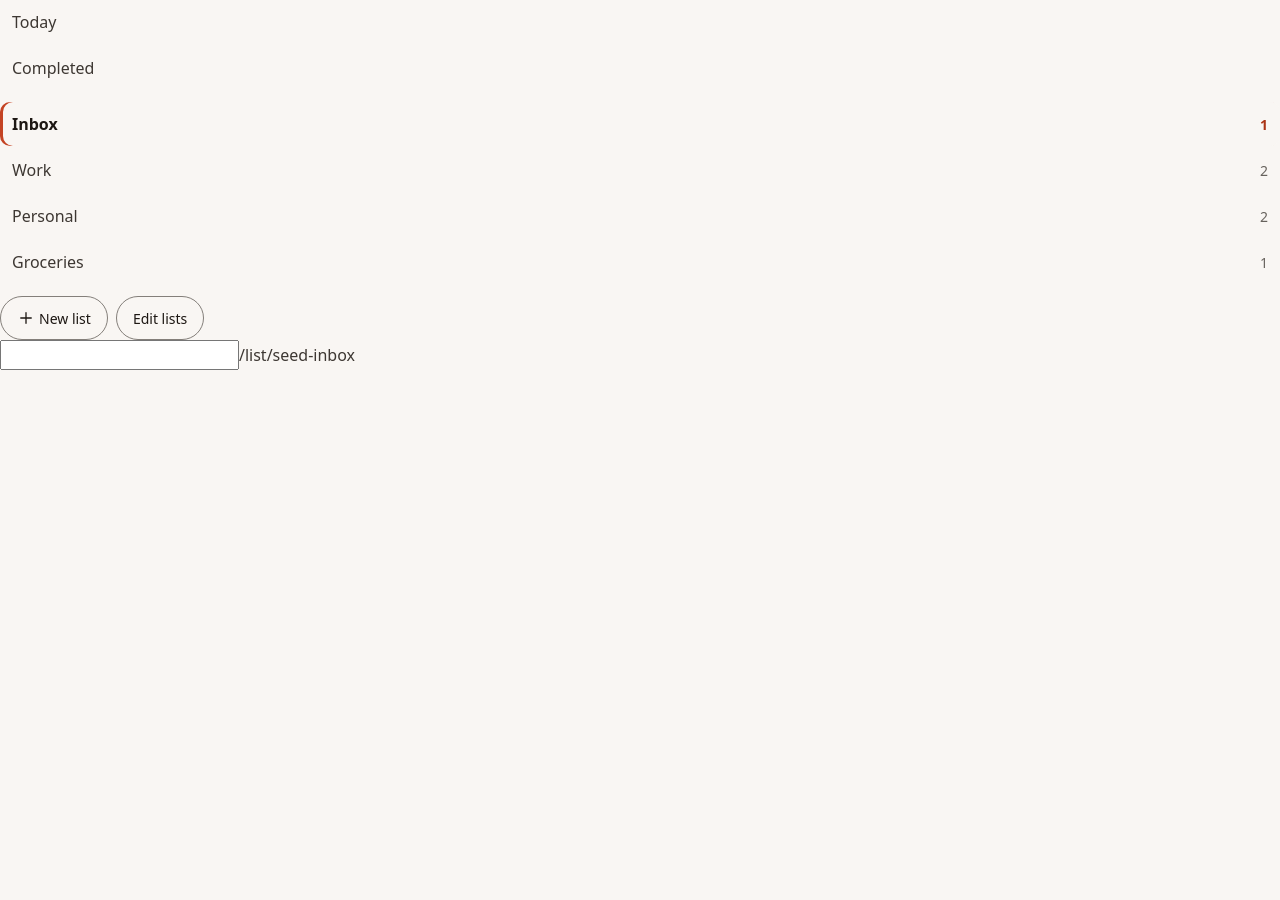
Test: ListNav › deleting › keeps the list when the prompt is cancelled
Check: the link "Work 2" is shown, box [12,159,1268,181]
Click the button "Edit lists".
click(160, 318)  # box [116,296,204,340]
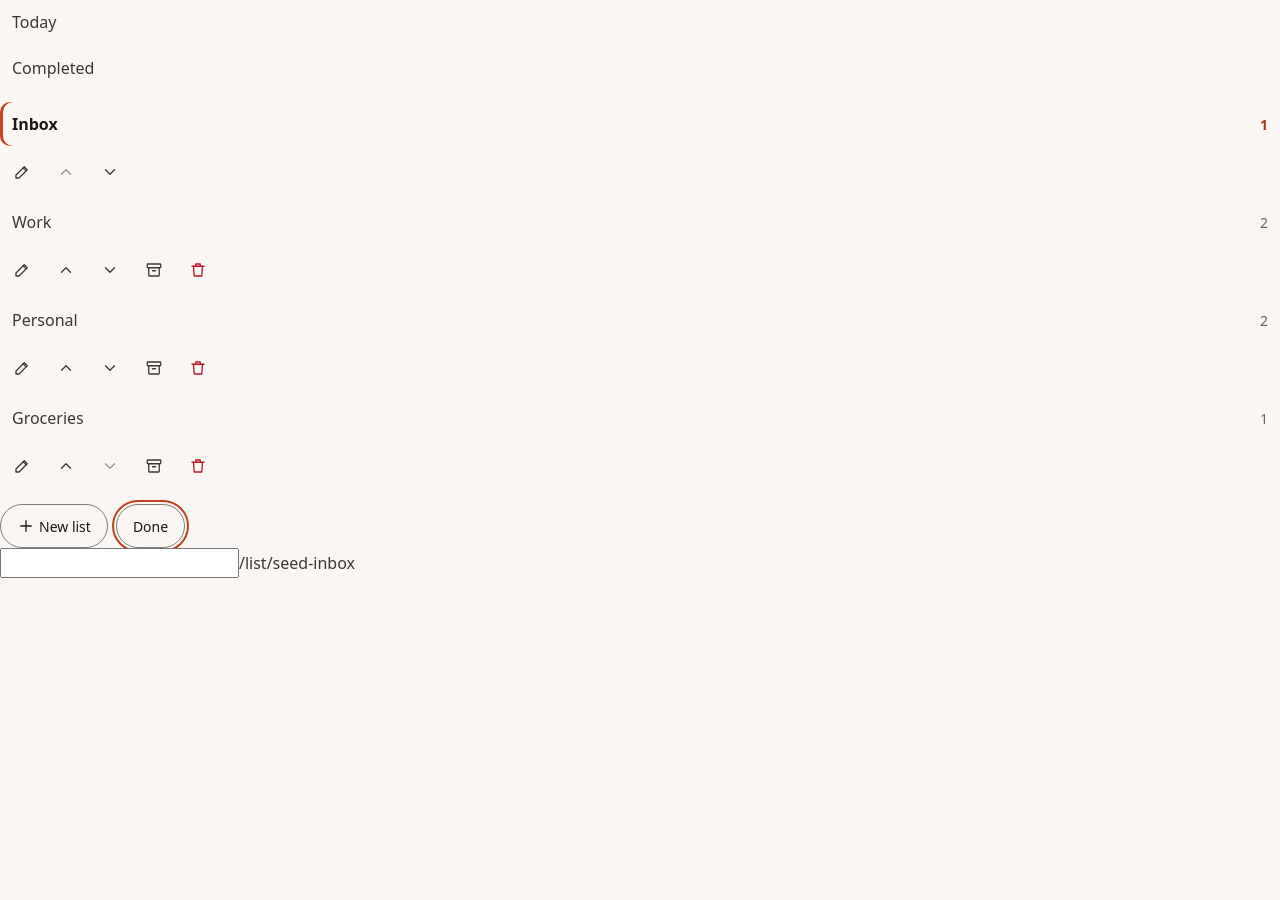
Click the button named "Delete Work".
click(198, 270)  # box [176,248,220,292]
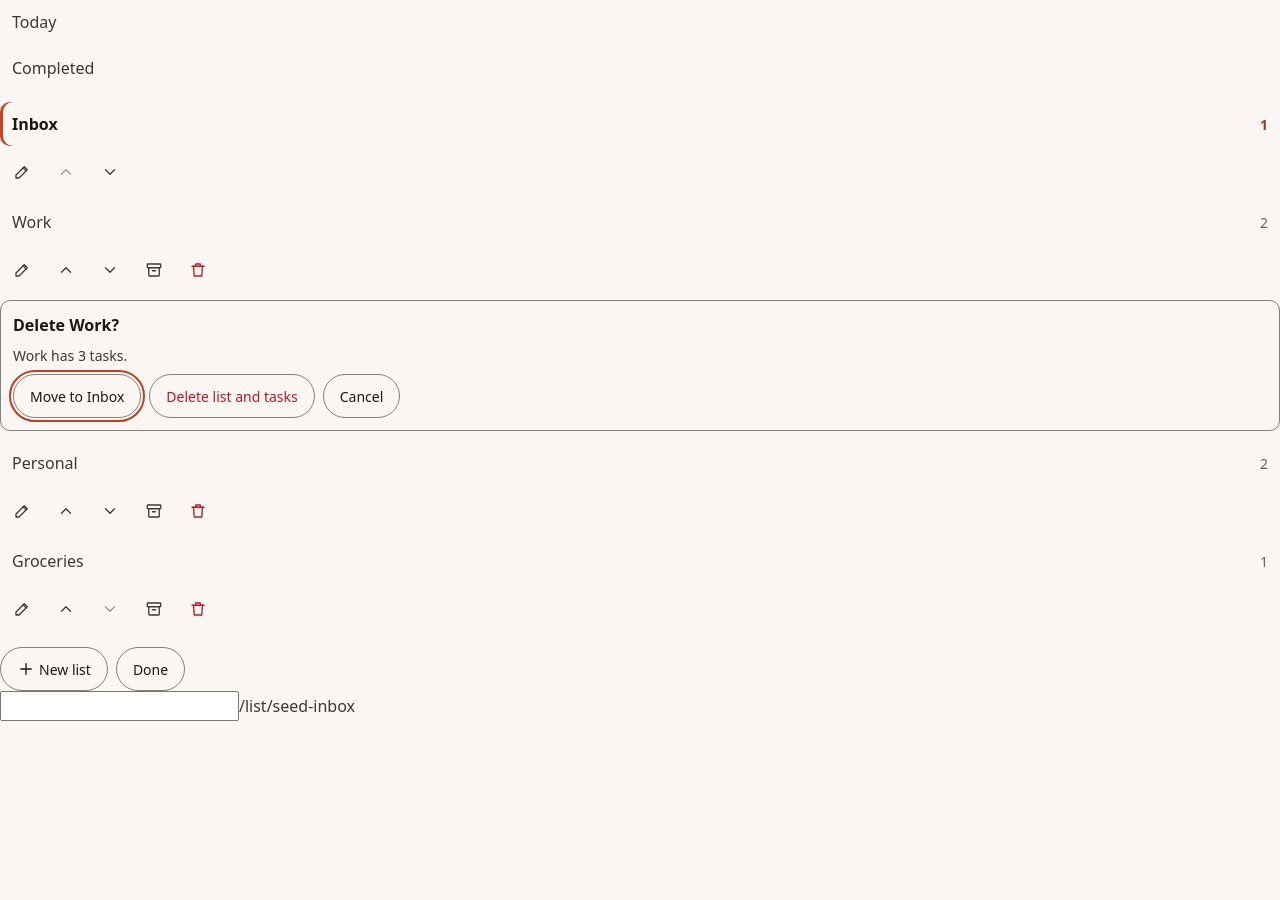
Press Escape
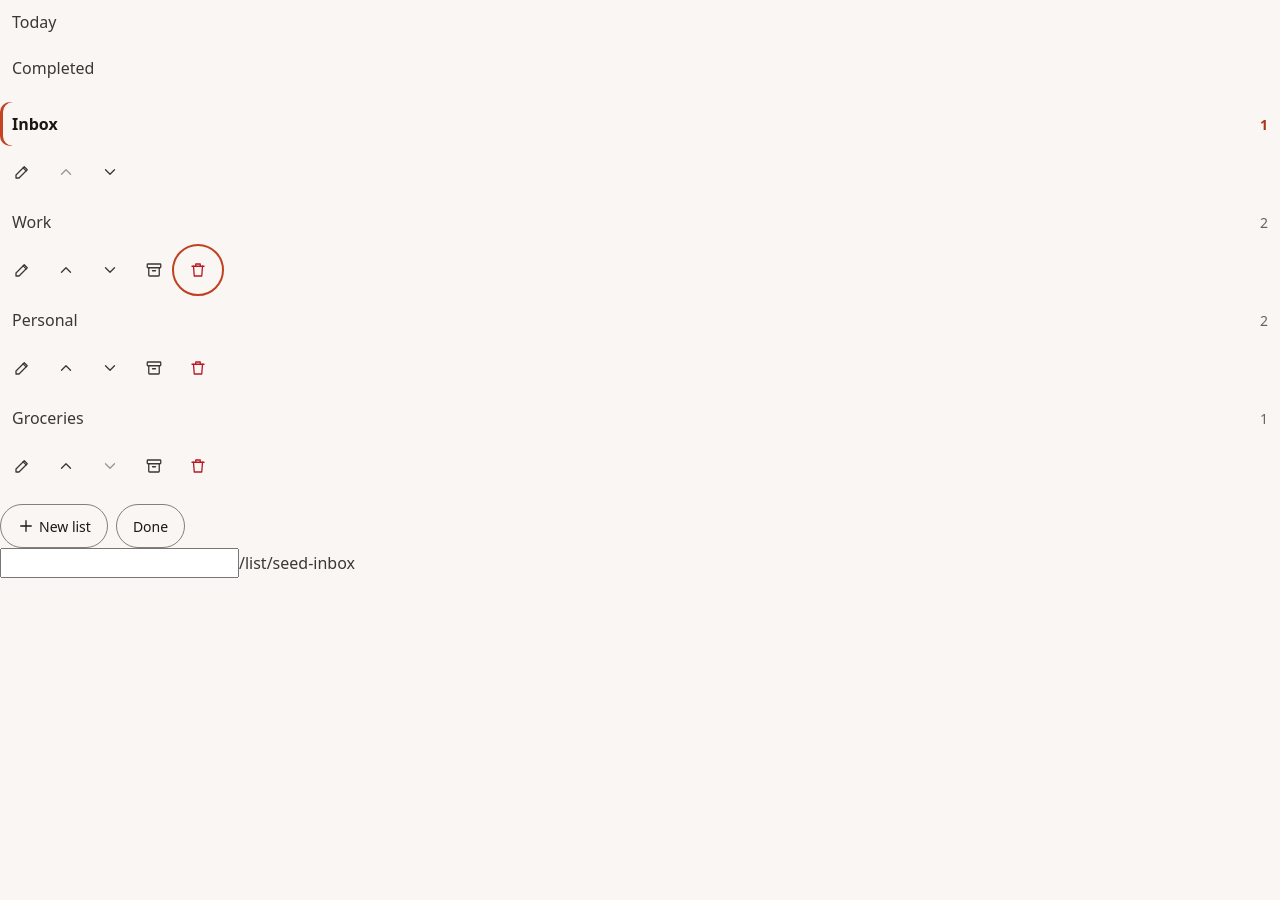
Check: the dialog is gone
